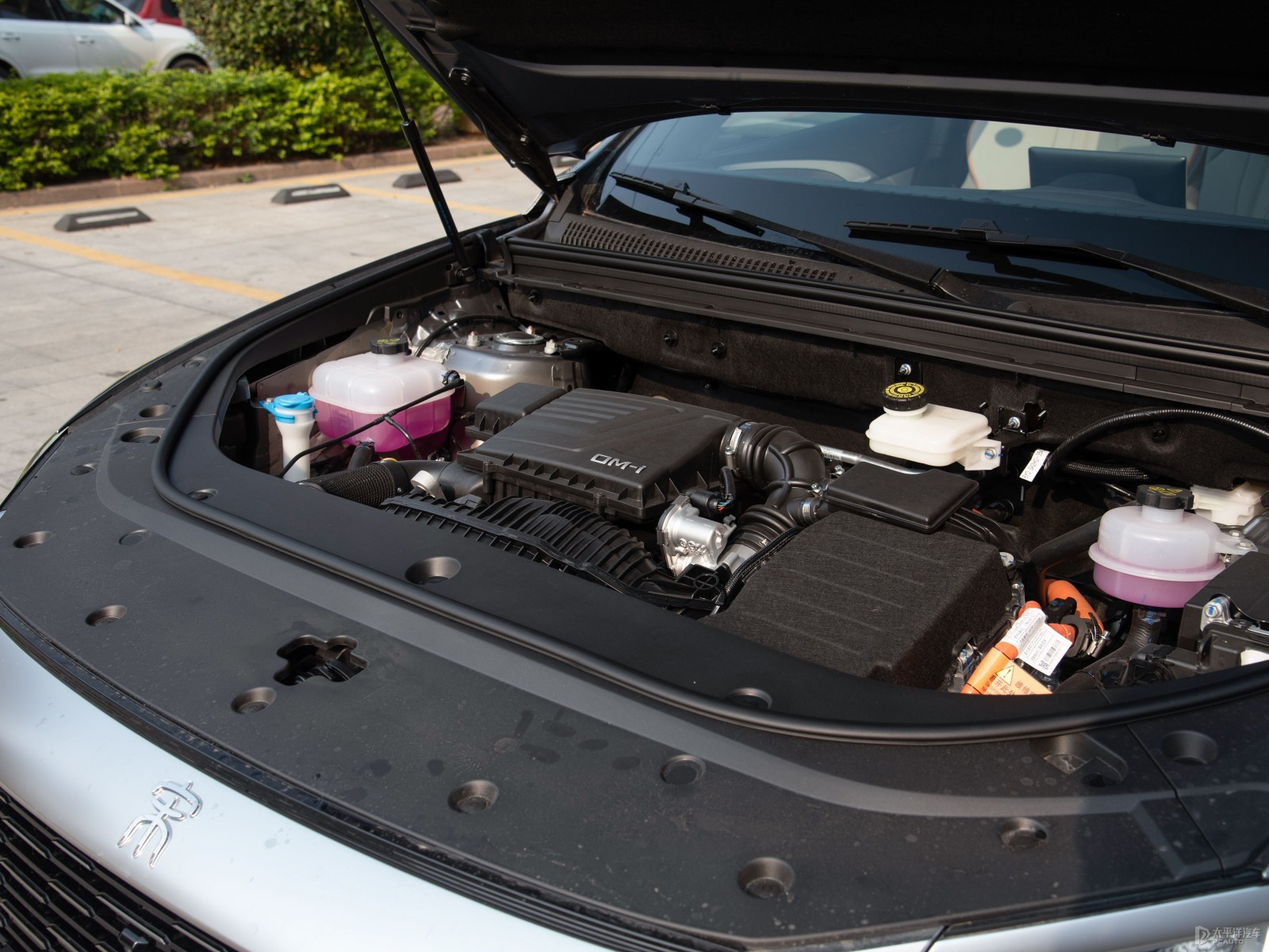BYD Song: (117, 781, 199, 866)
